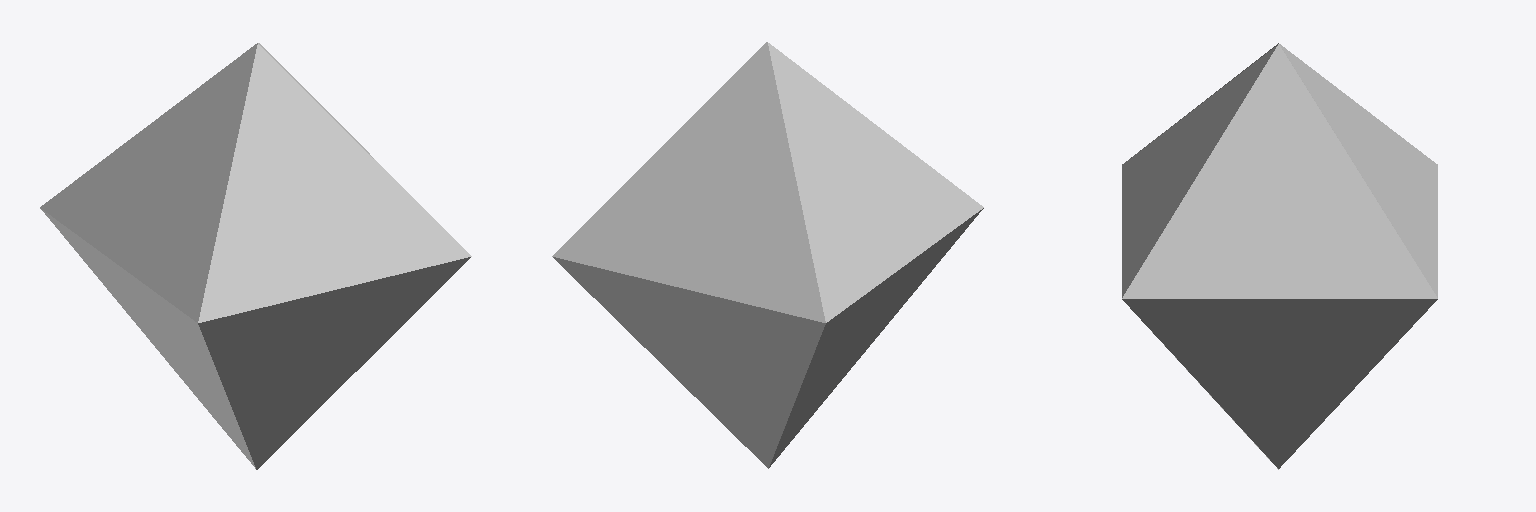
Rendered from star.obj.
3 renders of one model, left to right at view 1: azimuth 30°, elevation 25°; view 2: azimuth 150°, elevation 25°; view 3: azimuth 270°, elevation 25°, orthographic.
Parts seen in each view (by area): view 1: Cube; view 2: Cube; view 3: Cube.
Boxes of the visible parts, x1,y1,x2,y2 form: Cube: [40, 43, 471, 469]; Cube: [552, 42, 983, 468]; Cube: [1122, 43, 1437, 469].
Size of the model in its own units: 0.7118 by 1.06 by 0.7118.